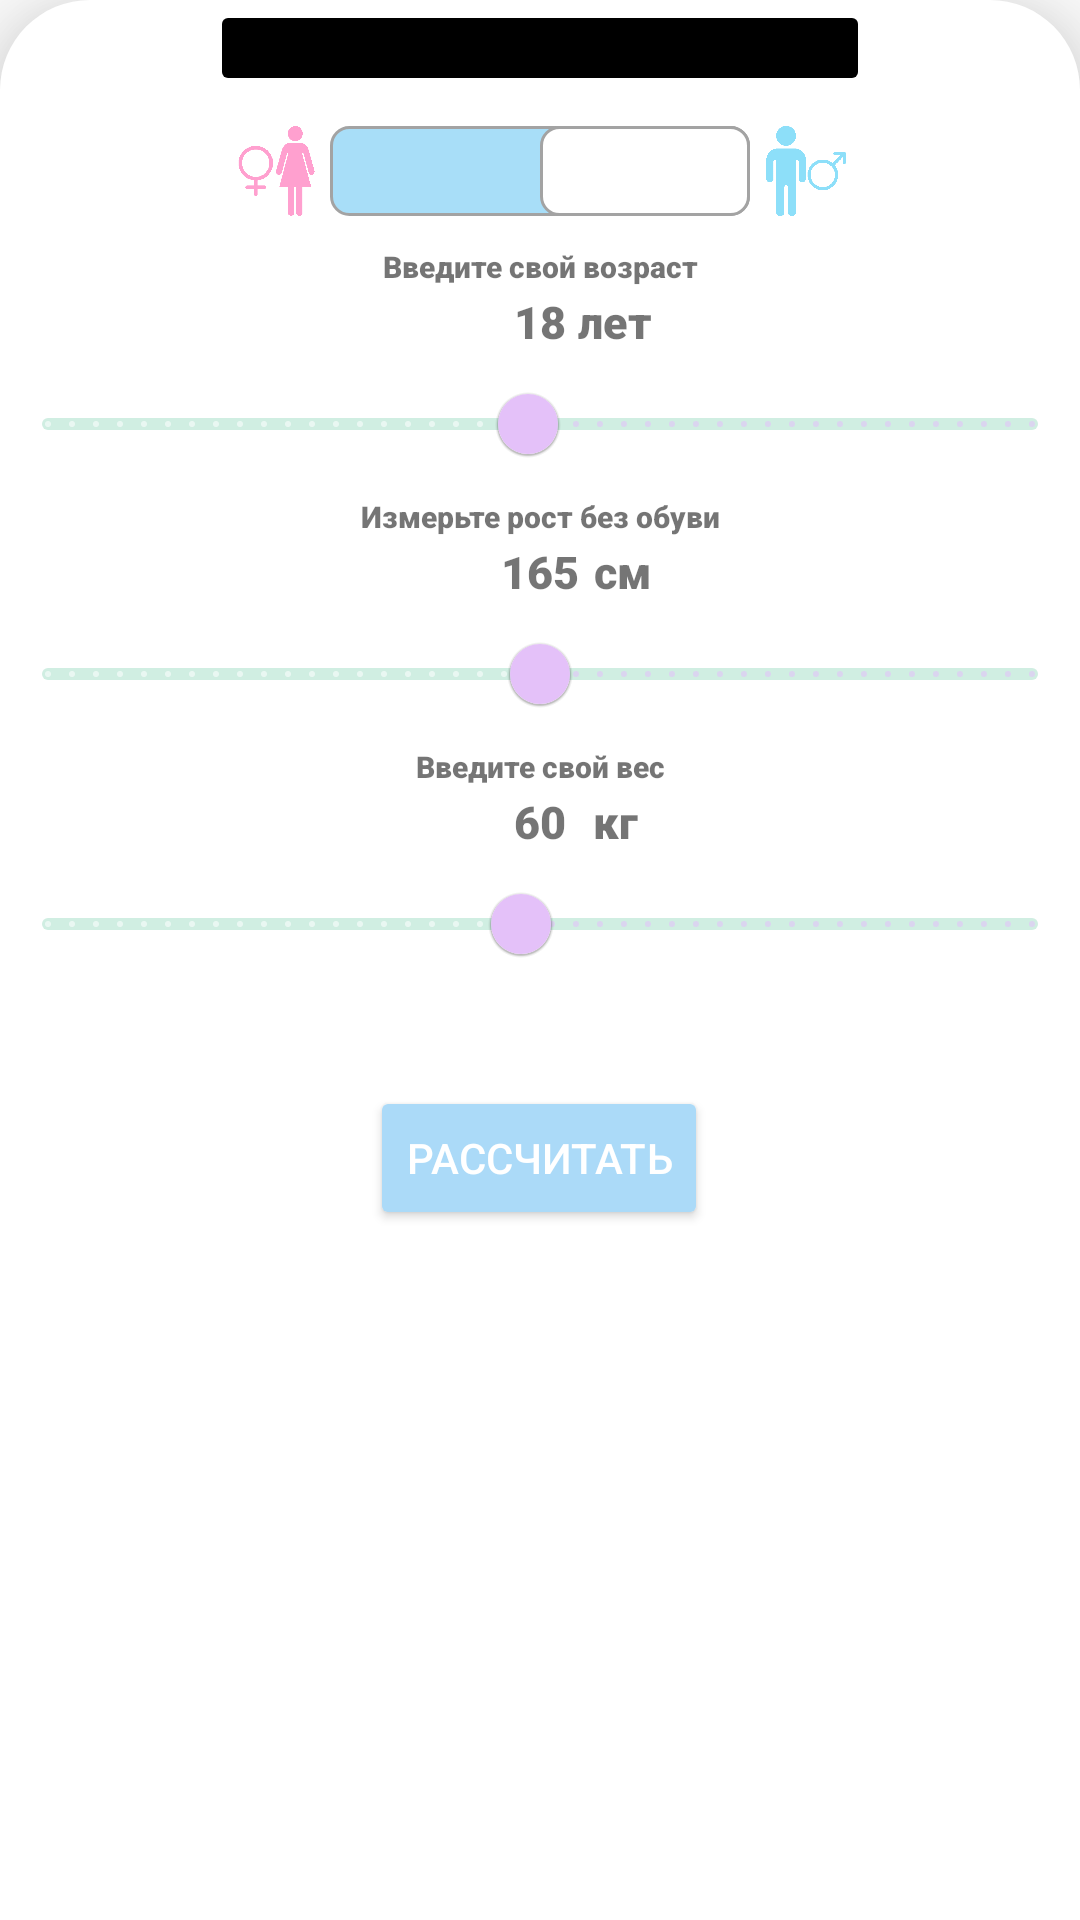

Screen size 1080 x 1920. Icon name, then its center in pixels as point (x, y):
female: point (277, 171)
male: point (806, 171)
